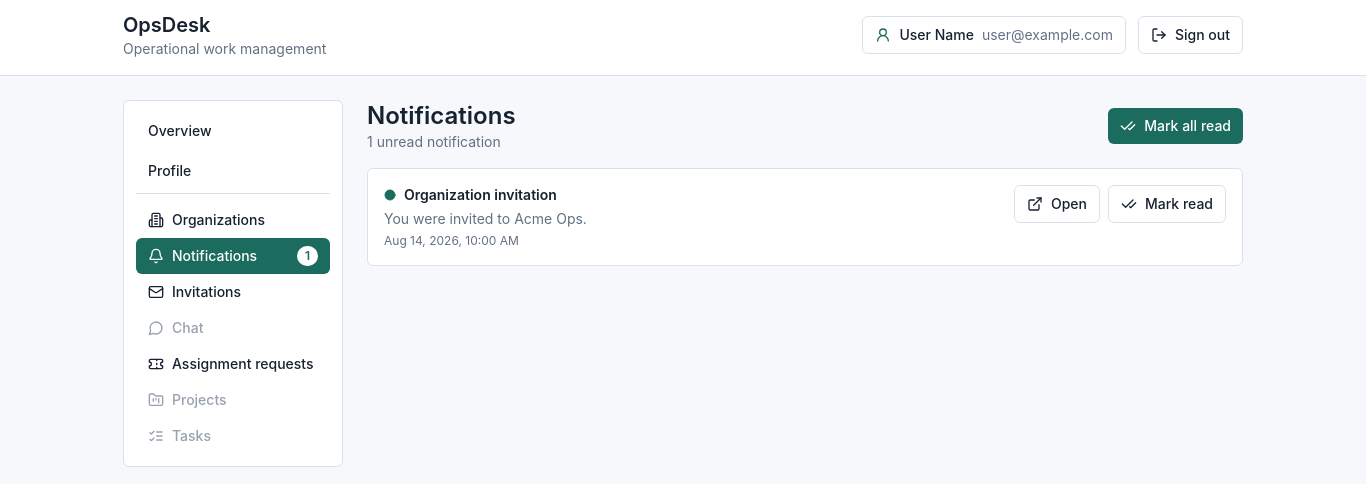
SPEC-306 notification inbox UI › shows unread state, marks notifications read, and opens invitation actions
Expected: the heading "Notifications" is shown, [367,100,516,132]
Expected: the heading "Organization invitation" is shown, [404,185,557,205]
Click the button "Mark read" at (1167, 204), box [1108,185,1226,223]
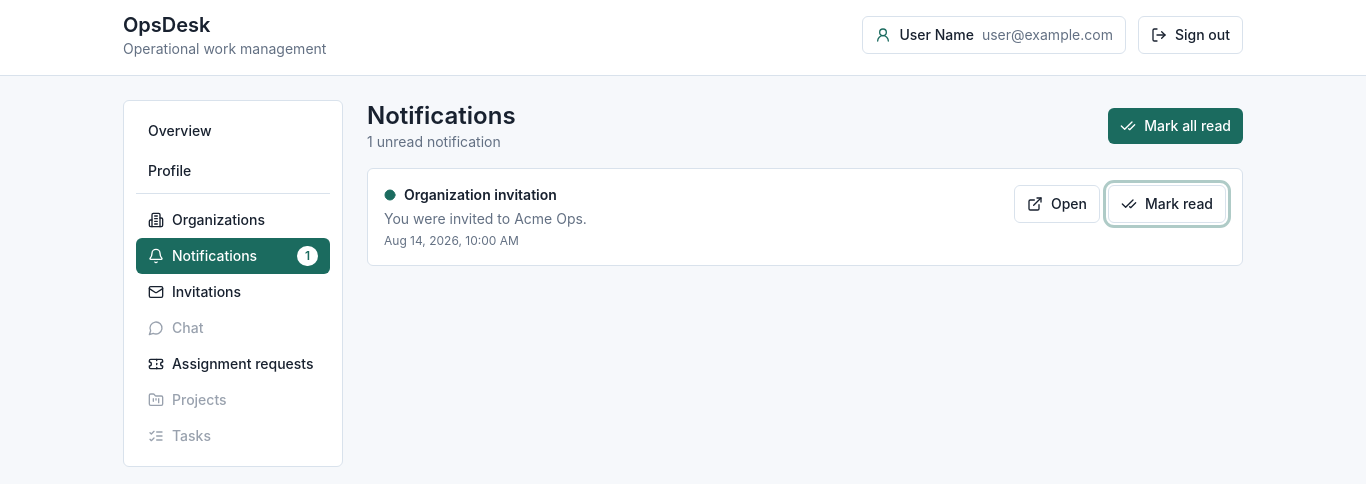
Click the link "Open" at (1057, 204), box [1014,185,1100,223]
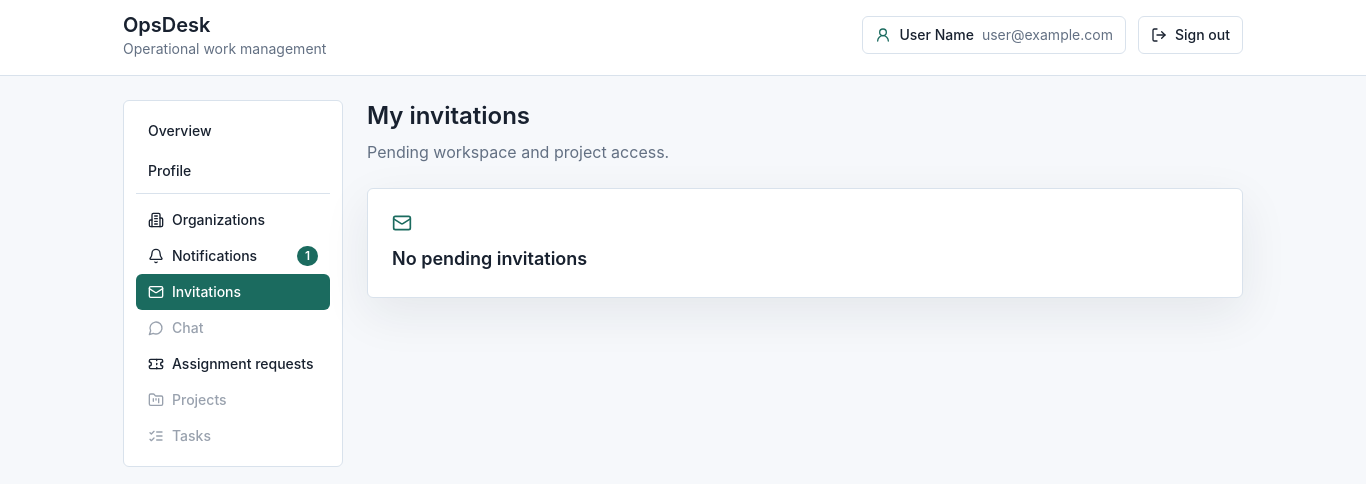
Now the heading "My invitations" is shown, box [367,101,530,130]
